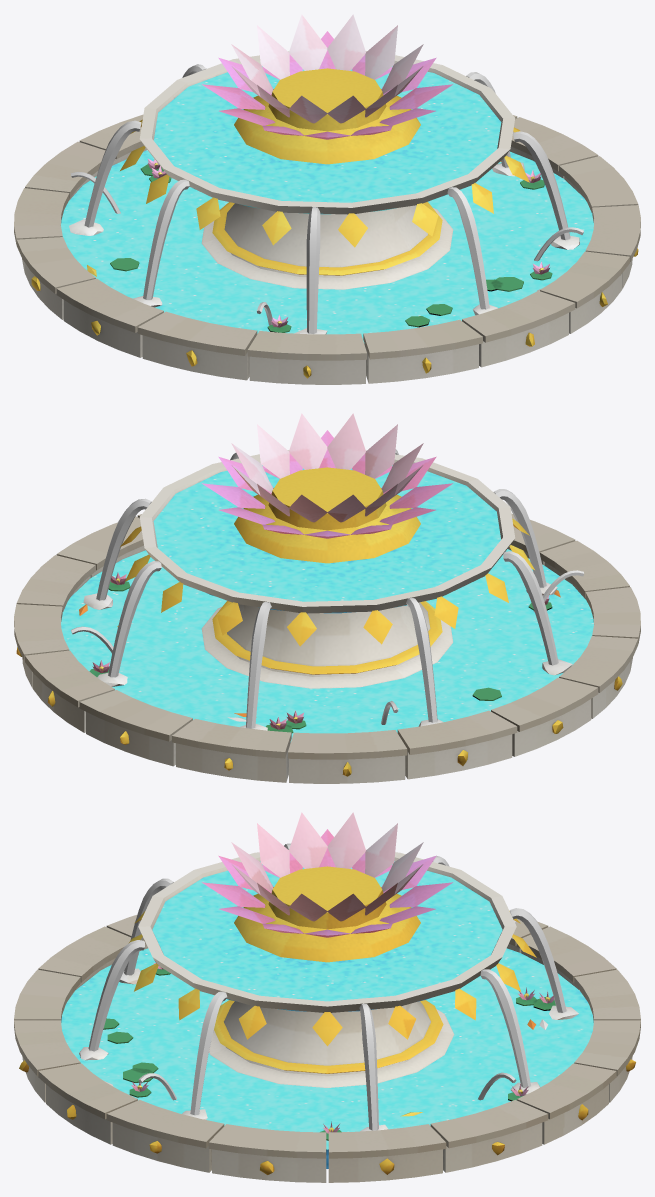
File: hub_fountain.fbx
3 views of the same model, one above another, from view 1: azimuth 30°, elevation 25°; view 2: azimuth 150°, elevation 25°; view 3: azimuth 270°, elevation 25° (orthographic).
Visible parts, largest first — view 1: hub_fountain_body, hub_fountain_body_glow; view 2: hub_fountain_body, hub_fountain_body_glow; view 3: hub_fountain_body, hub_fountain_body_glow.
Part boxes in pixels (x1,y1,x2,y2): hub_fountain_body: [14, 14, 640, 384]; hub_fountain_body_glow: [70, 64, 583, 333]; hub_fountain_body: [14, 413, 640, 783]; hub_fountain_body_glow: [71, 449, 584, 728]; hub_fountain_body: [14, 812, 640, 1182]; hub_fountain_body_glow: [88, 843, 566, 1130].
Size of the model in its own units: 3080 by 1090 by 3080.
Materials: 2 (1 with a texture image).
